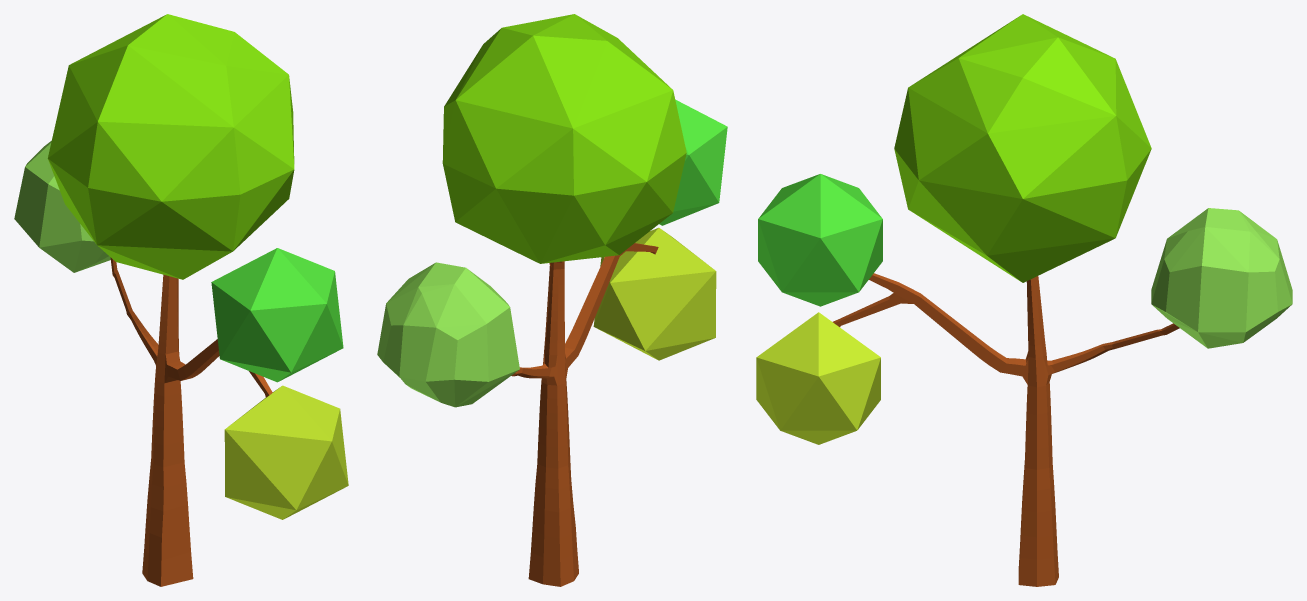
The model's file is Tree.fbx.
3 renders of one model, left to right at view 1: azimuth 30°, elevation 25°; view 2: azimuth 150°, elevation 25°; view 3: azimuth 270°, elevation 25°, orthographic.
Visible parts, largest first — view 1: Icosphere.002, Icosphere, Icosphere.001, Cube, Icosphere.003; view 2: Icosphere.002, Icosphere.003, Cube, Icosphere.001, Icosphere; view 3: Icosphere.002, Icosphere.003, Cube, Icosphere, Icosphere.001.
Part boxes in pixels (left/top/right/bottom): Icosphere.002: left=47, top=14, right=294, bottom=279; Icosphere: left=211, top=248, right=343, bottom=382; Icosphere.001: left=224, top=385, right=348, bottom=519; Cube: left=110, top=257, right=272, bottom=586; Icosphere.003: left=14, top=141, right=110, bottom=272; Icosphere.002: left=442, top=14, right=686, bottom=263; Icosphere.003: left=377, top=262, right=519, bottom=407; Cube: left=511, top=243, right=658, bottom=586; Icosphere.001: left=593, top=227, right=716, bottom=360; Icosphere: left=659, top=99, right=727, bottom=225; Icosphere.002: left=894, top=14, right=1151, bottom=282; Icosphere.003: left=1151, top=208, right=1292, bottom=348; Cube: left=833, top=273, right=1179, bottom=586; Icosphere: left=758, top=174, right=882, bottom=306; Icosphere.001: left=756, top=312, right=880, bottom=444.
Size of the model in its own units: 2534 by 5932 by 5290.
